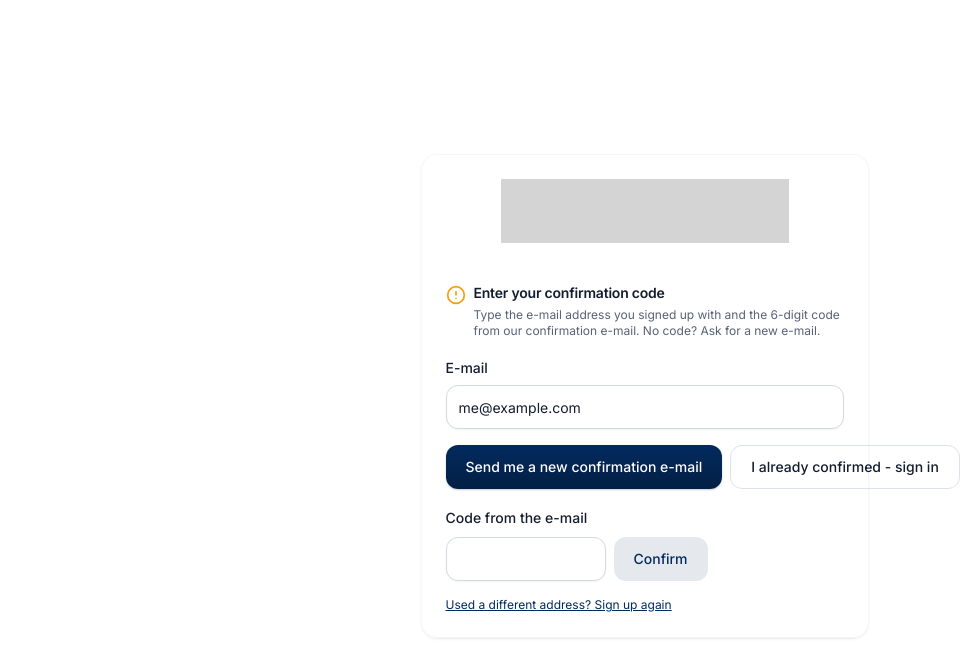
confirm page (scanner-safe link) › the 6-digit code confirms the address
This screenshot has width=977, height=656.
Expected: the heading "Enter your confirmation code" is shown, [474,284,665,301]
In the field labelled "Code from the e-mail": {"x": 526, "y": 559} [446,537,606,581], type "123456"
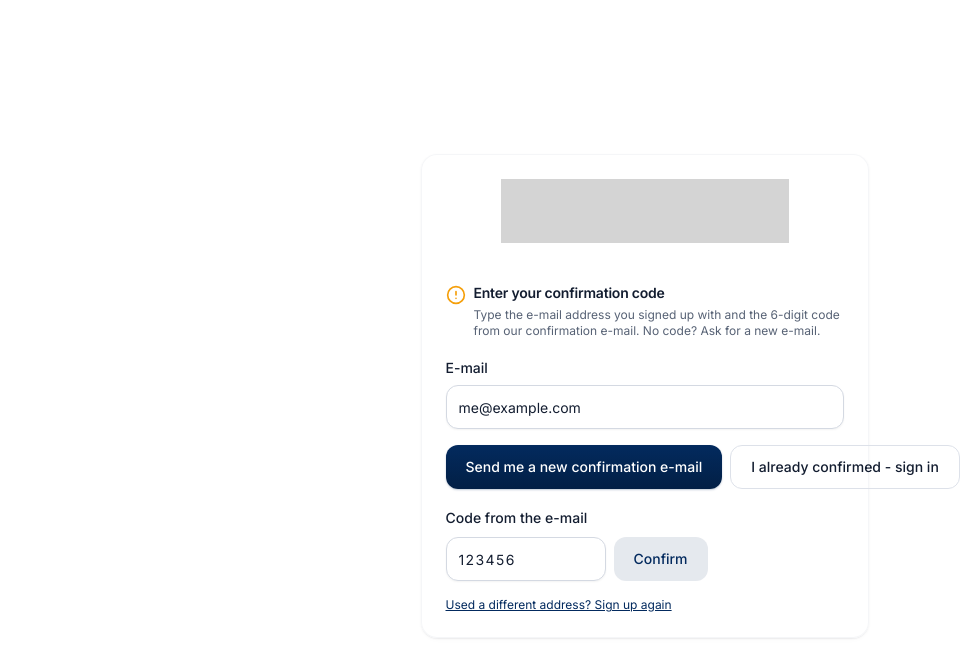
Click the button "Confirm": {"x": 661, "y": 559} [614,537,708,581]
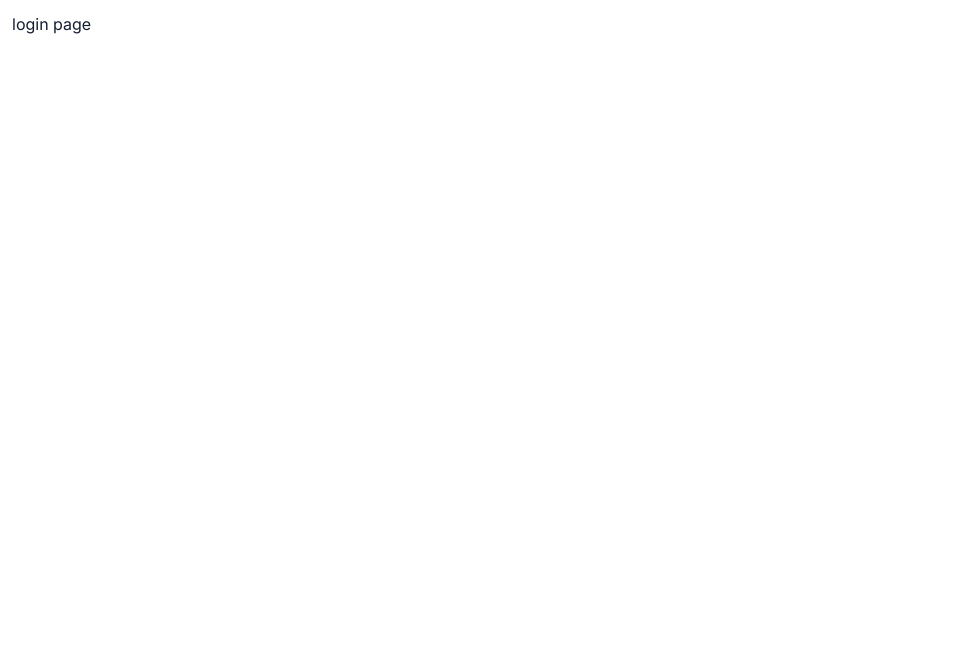
Result: the text "login page" is shown at [12,14,91,34]
